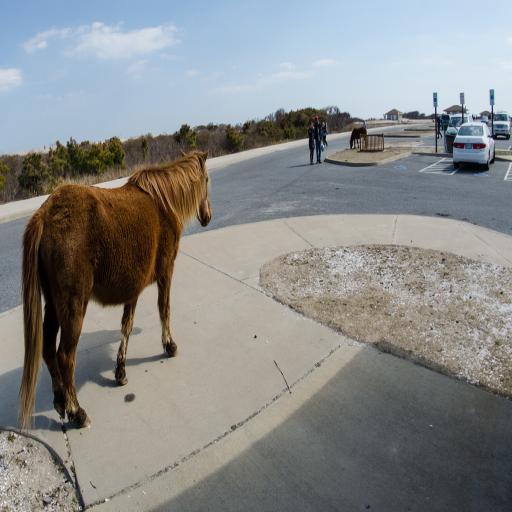horse: (12, 145, 212, 441)
